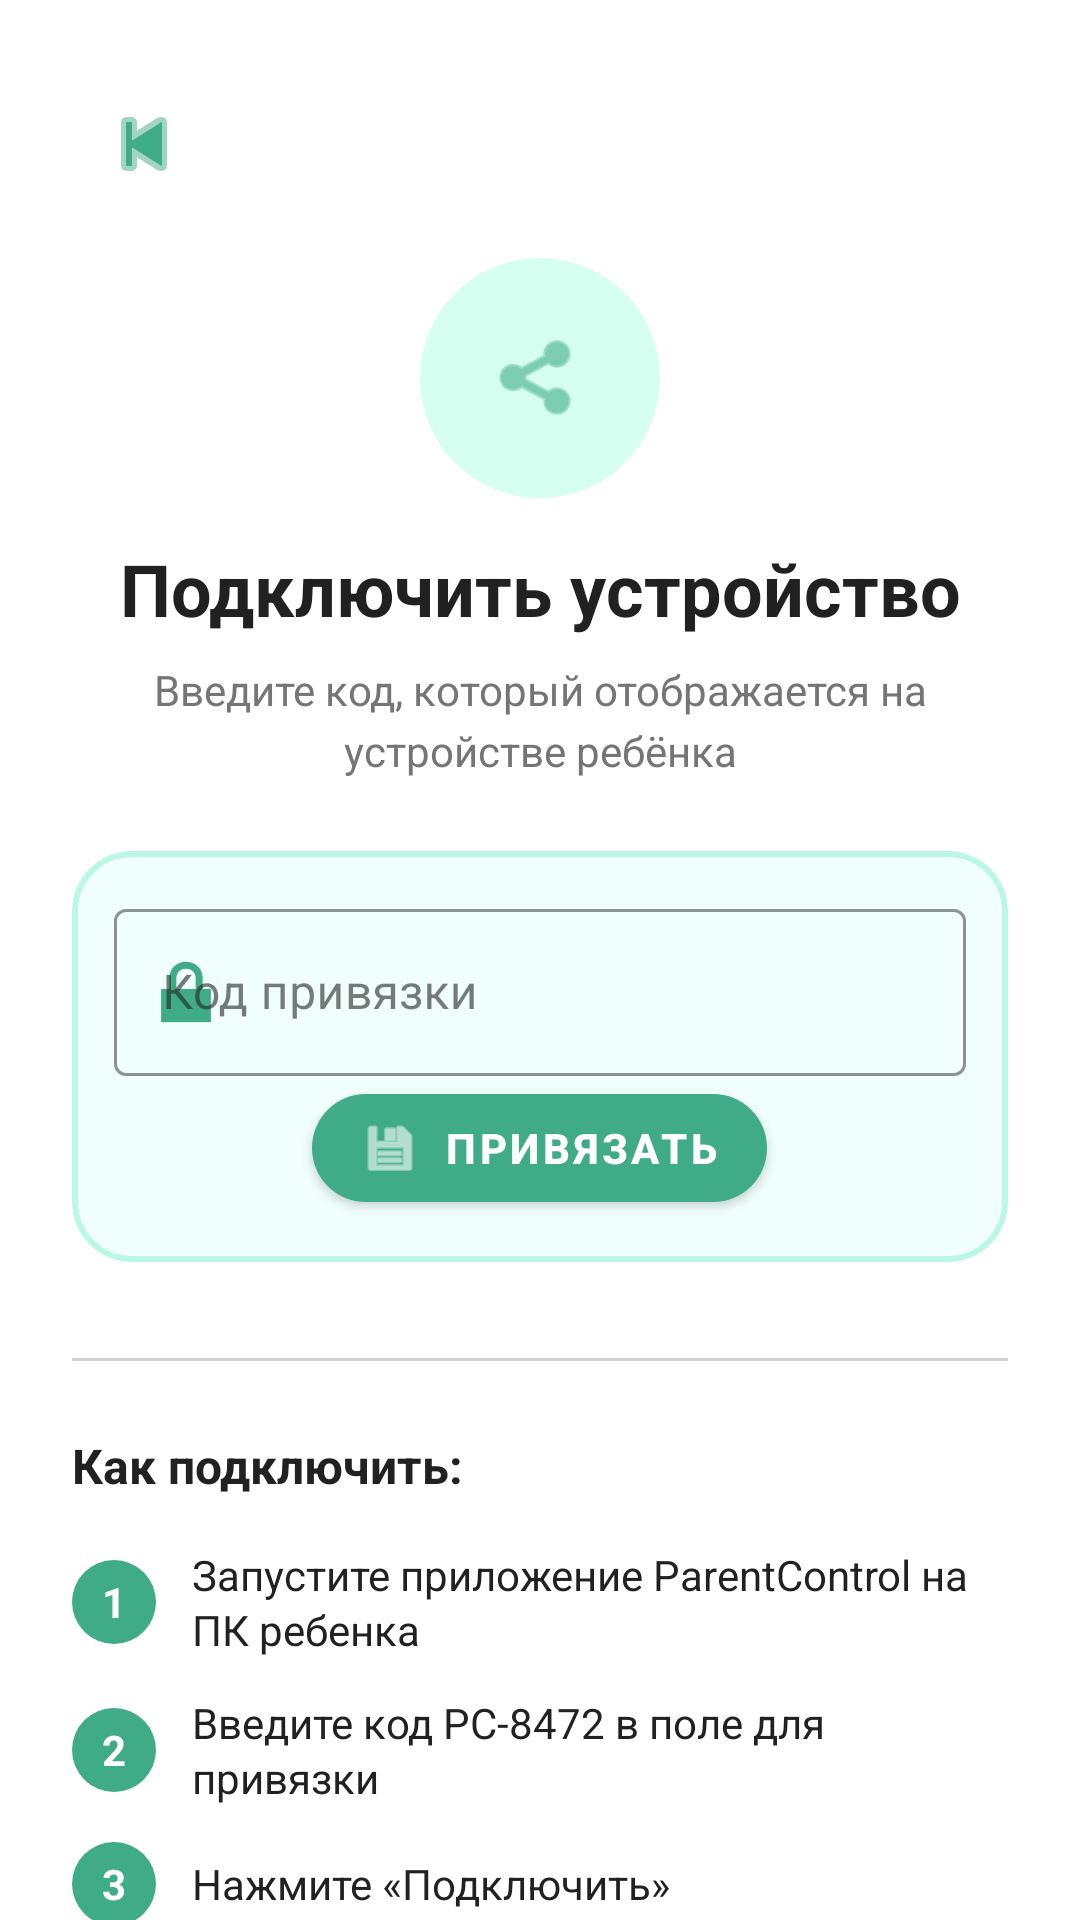

Where icons sit on this 1080 × 1920 app screen, as [x1,y1,x2,y2]:
share: [420,258,660,498]
Назад: [121,117,167,171]
